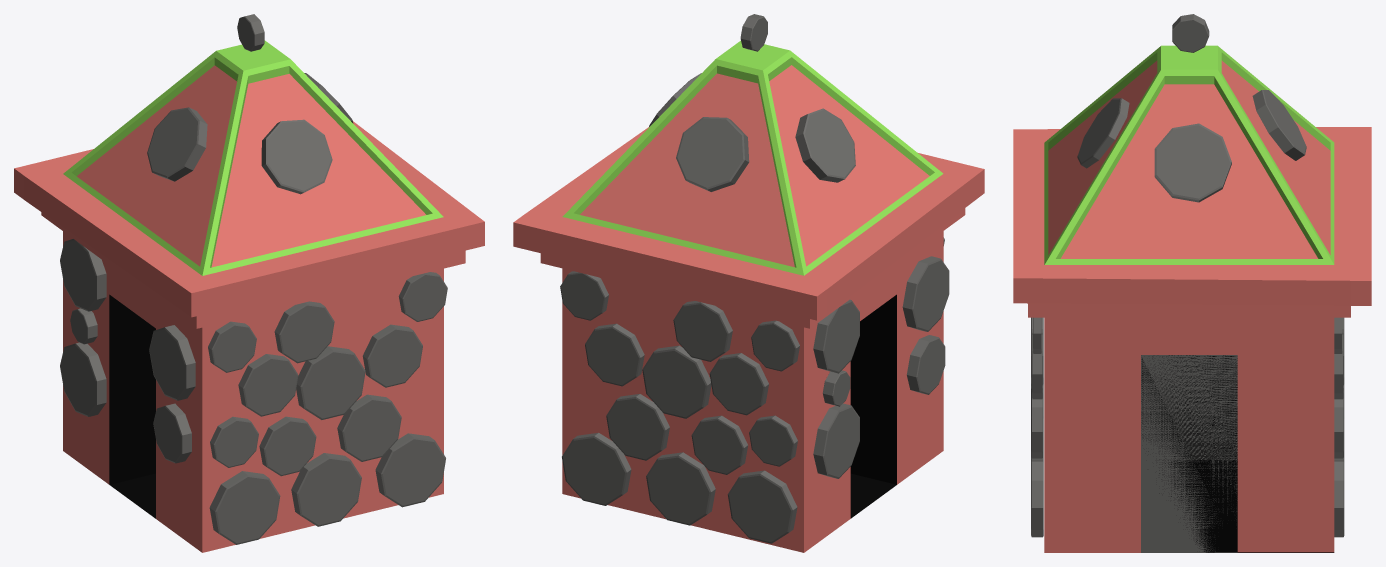
The model's file is construction_building.glb.
3 views of the same model, side by side, from view 1: azimuth 30°, elevation 25°; view 2: azimuth 150°, elevation 25°; view 3: azimuth 270°, elevation 25° (orthographic). The views are drawn at different scales.
Parts seen in each view (by area): view 1: Cube; view 2: Cube; view 3: Cube.
Boxes of the visible parts, x1,y1,x2,y2 form: Cube: [14, 14, 484, 552]; Cube: [513, 14, 984, 552]; Cube: [1013, 14, 1371, 552].
Size of the model in its own units: 2.51 by 3.61 by 2.47.
